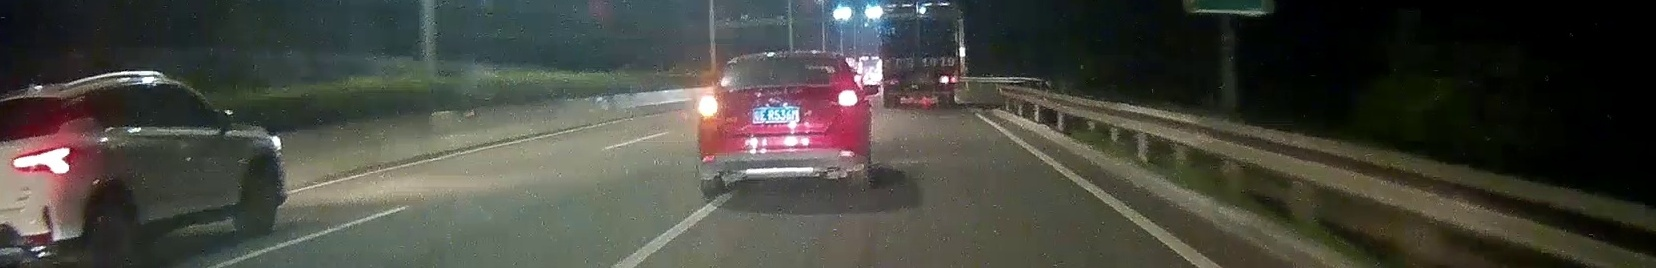L_light: (698, 96, 729, 119), (883, 76, 899, 87)
R_light: (828, 89, 860, 107), (937, 74, 957, 84)
T_light: (771, 53, 789, 58), (910, 7, 926, 11)
night-left: (697, 47, 870, 199)
night-right: (881, 3, 959, 109)
